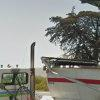Boat: (39, 49, 100, 100)
